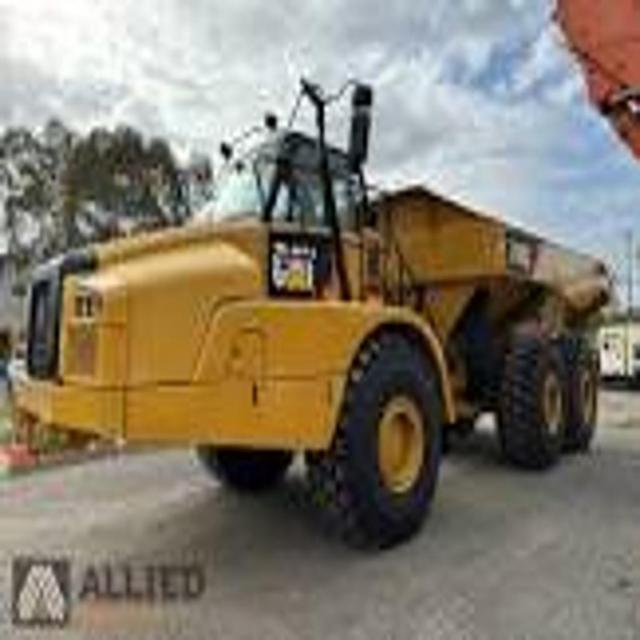dump_truck: (5, 71, 617, 546)
